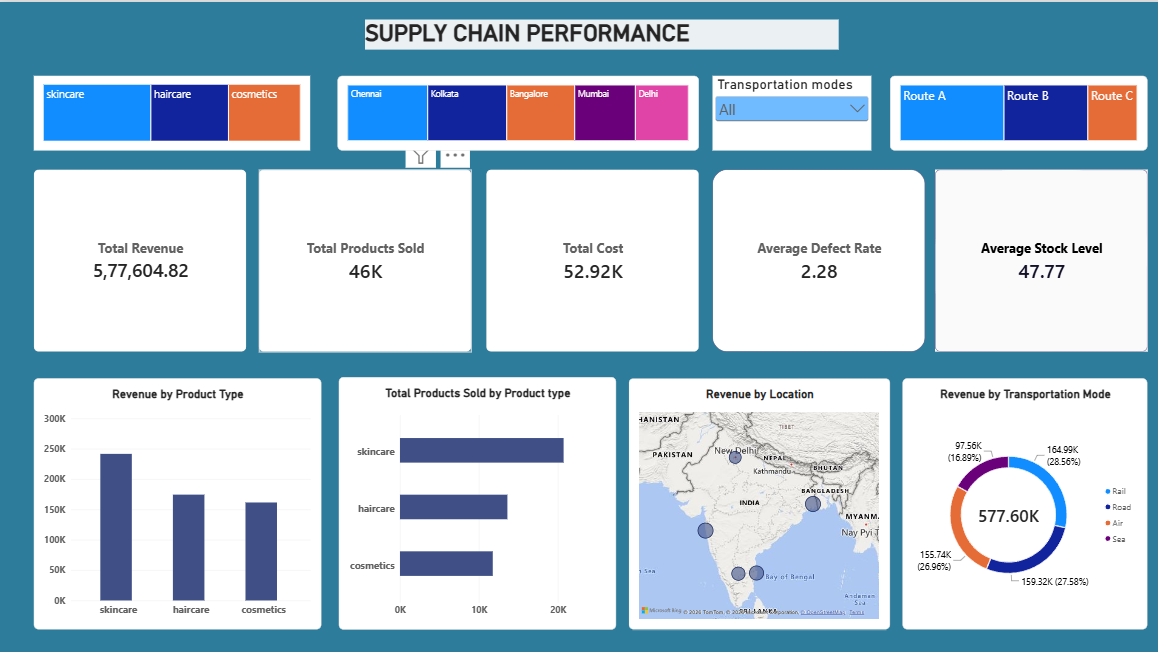

This screenshot's page, from the dashboard's own definition file:
{"tool":"powerbi","page":{"name":"Executive Overview","canvas":[1920,1080],"ordinal":0},"visuals":[{"type":"shape","title":"SUPPLY CHAIN PERFORMANCE DASHBOARD","box":[601,28.8,780.1,49.4],"z":0},{"type":"cardVisual","fields":{"Data":["supply_chain_data.Total Revenue"]},"box":[55.6,275.8,350,300],"z":1000},{"type":"cardVisual","fields":{"Data":["supply_chain_data.Total Products Sold"]},"box":[426.1,275.8,350,300],"z":2000},{"type":"cardVisual","fields":{"Data":["supply_chain_data.Total Cost"]},"box":[800.7,275.8,350,300],"z":3000},{"type":"cardVisual","fields":{"Data":["supply_chain_data.Average Defect Rate"]},"box":[1173.2,275.8,350,300.5],"z":4000},{"type":"cardVisual","fields":{"Data":["supply_chain_data.Average Stock Level"]},"box":[1539.6,275.8,350,300],"z":5000},{"type":"clusteredColumnChart","title":"Revenue by Product Type","fields":{"Category":["supply_chain_data.Product type"],"Y":["supply_chain_data.Total Revenue"]},"box":[55.6,619.6,473.4,413.7],"z":6000},{"type":"clusteredBarChart","fields":{"Category":["supply_chain_data.Product type"],"Y":["supply_chain_data.Total Products Sold"]},"box":[557.8,617.5,456.9,415.8],"z":7000},{"type":"map","title":"Revenue by Location","fields":{"Category":["supply_chain_data.Location"],"Size":["supply_chain_data.Total Revenue"]},"box":[1035.3,619.6,430.2,413.7],"z":8000},{"type":"donutChart","title":"Revenue by Transportation Mode","fields":{"Category":["supply_chain_data.Transportation modes"],"Y":["supply_chain_data.Total Revenue"]},"box":[1486.1,619.6,403.4,413.7],"z":9000},{"type":"treemap","fields":{"Group":["supply_chain_data.Product type"],"Values":["supply_chain_data.Total Revenue"]},"box":[55.6,121.4,454.9,123.5],"z":9001},{"type":"treemap","fields":{"Group":["supply_chain_data.Location"],"Values":["supply_chain_data.Total Cost"]},"box":[555.7,121.4,594.9,123.5],"z":9002},{"type":"slicer","fields":{"Values":["supply_chain_data.Transportation modes"]},"box":[1173.2,121.4,261.4,123.5],"z":9003},{"type":"treemap","fields":{"Group":["supply_chain_data.Routes"],"Values":["supply_chain_data.Total Revenue"]},"box":[1465.5,121.4,424,123.5],"z":9004}]}

Visuals, with their boxes in screenshot pixels (x1, y1, x2, y2), scaled from the page's 1920x1080 canvas onto the 1158x652 screenshot:
"SUPPLY CHAIN PERFORMANCE DASHBOARD" shape: rect(362, 17, 833, 47)
cardVisual - supply_chain_data.Total Revenue: rect(34, 167, 245, 348)
cardVisual - supply_chain_data.Total Products Sold: rect(257, 167, 468, 348)
cardVisual - supply_chain_data.Total Cost: rect(483, 167, 694, 348)
cardVisual - supply_chain_data.Average Defect Rate: rect(708, 167, 919, 348)
cardVisual - supply_chain_data.Average Stock Level: rect(929, 167, 1140, 348)
"Revenue by Product Type" clusteredColumnChart: rect(34, 374, 319, 624)
clusteredBarChart - supply_chain_data.Product type x supply_chain_data.Total Products Sold: rect(336, 373, 612, 624)
"Revenue by Location" map: rect(624, 374, 884, 624)
"Revenue by Transportation Mode" donutChart: rect(896, 374, 1140, 624)
treemap - supply_chain_data.Product type x supply_chain_data.Total Revenue: rect(34, 73, 308, 148)
treemap - supply_chain_data.Location x supply_chain_data.Total Cost: rect(335, 73, 694, 148)
slicer - supply_chain_data.Transportation modes: rect(708, 73, 865, 148)
treemap - supply_chain_data.Routes x supply_chain_data.Total Revenue: rect(884, 73, 1140, 148)
